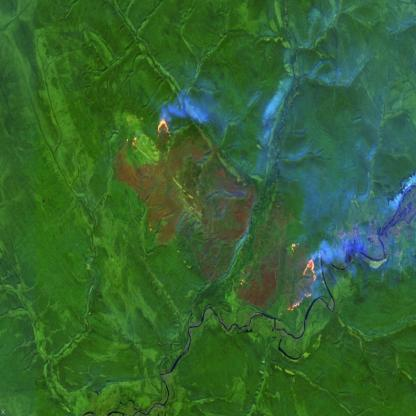fire: (282, 237, 320, 316), (150, 107, 180, 147)
